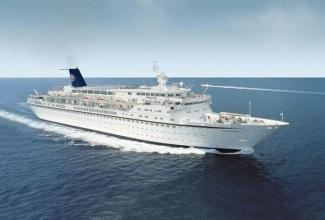youlun: (23, 60, 290, 154)
